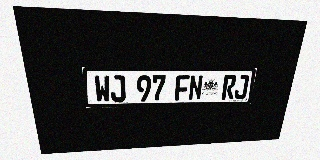7: (152, 75, 166, 101)
9: (137, 75, 151, 102)
F: (175, 75, 190, 101)
J: (110, 75, 126, 102), (234, 75, 249, 99)
N: (188, 75, 203, 100)
R: (221, 75, 237, 100)
W: (94, 75, 111, 103)
